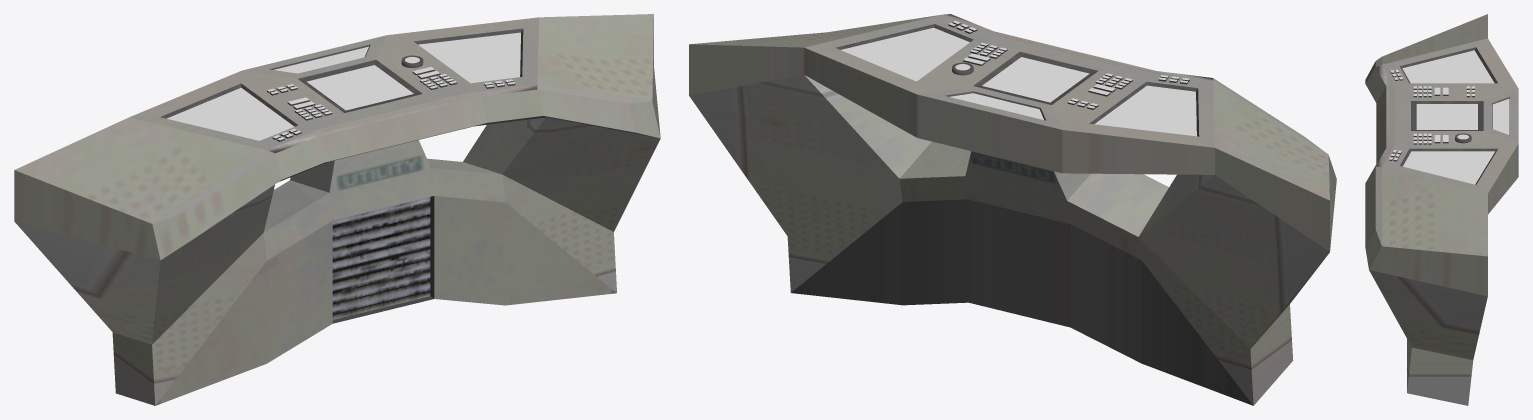
File: reroute_mainpanel.fbx
3 views of the same model, side by side, from view 1: azimuth 30°, elevation 25°; view 2: azimuth 150°, elevation 25°; view 3: azimuth 270°, elevation 25° (orthographic). The views are drawn at different scales.
Parts seen in each view (by area): view 1: Cube.001; view 2: Cube.001; view 3: Cube.001.
Part boxes in pixels (left/top/right/bottom): Cube.001: left=14, top=14, right=660, bottom=405; Cube.001: left=689, top=14, right=1336, bottom=405; Cube.001: left=1365, top=14, right=1518, bottom=405.
Bounding box in the file's own units: 1871 × 739 × 499.
3 materials, 2 textured.
